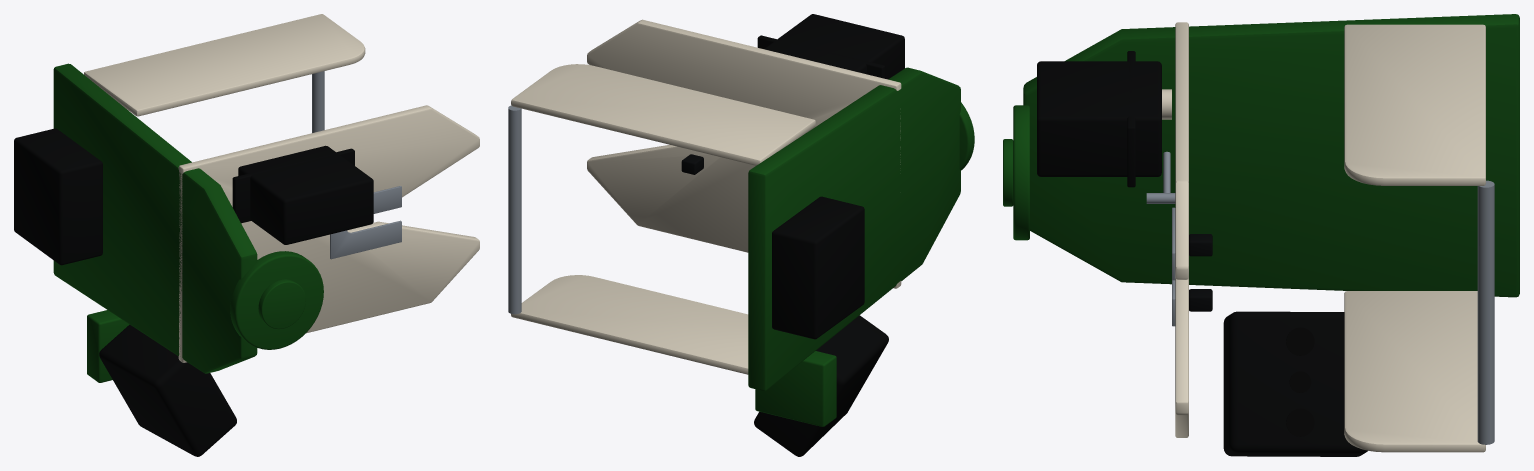
Rendered from cutter_body.obj.
3 views of the same model, side by side, from view 1: azimuth 30°, elevation 25°; view 2: azimuth 150°, elevation 25°; view 3: azimuth 270°, elevation 25° (orthographic). The views are drawn at different scales.
Visible parts, largest first — view 1: spine, top_plate, wall_right, servo2, arm_camera, servo1, flange, fixed_edge, spigot, camera_bracket, servo1_tabs, hinge_barrel; view 2: spine, top_plate, wall_right, wall_left, servo2, arm_camera, servo1, camera_bracket, hinge_barrel, flange, servo1_tabs; view 3: spine, wall_right, wall_left, arm_camera, servo1, top_plate, hinge_barrel, flange, servo1_tabs, spigot, lens_0, lens_2 (+2 smaller).
Boxes of the visible parts, x1,y1,x2,y2 form: spine: [53, 63, 257, 373]; top_plate: [178, 105, 479, 362]; wall_right: [84, 14, 365, 116]; servo2: [14, 128, 102, 265]; arm_camera: [99, 324, 236, 456]; servo1: [238, 145, 373, 244]; flange: [230, 251, 323, 349]; fixed_edge: [330, 186, 401, 259]; spigot: [258, 279, 305, 329]; camera_bracket: [87, 310, 129, 382]; servo1_tabs: [232, 148, 354, 223]; hinge_barrel: [312, 71, 324, 132]; spine: [748, 67, 960, 390]; top_plate: [587, 19, 901, 288]; wall_right: [511, 64, 815, 165]; wall_left: [511, 275, 748, 374]; servo2: [772, 196, 864, 339]; arm_camera: [754, 315, 888, 456]; servo1: [764, 14, 904, 79]; camera_bracket: [755, 351, 836, 426]; hinge_barrel: [508, 105, 521, 314]; flange: [959, 102, 974, 170]; servo1_tabs: [757, 35, 885, 78]; spine: [1023, 14, 1519, 297]; wall_right: [1344, 24, 1485, 185]; wall_left: [1344, 291, 1485, 452]; arm_camera: [1223, 311, 1367, 456]; servo1: [1037, 61, 1161, 176]; top_plate: [1175, 22, 1188, 437]; hinge_barrel: [1477, 180, 1494, 444]; flange: [1013, 105, 1029, 240]; servo1_tabs: [1127, 51, 1135, 187]; spigot: [1003, 139, 1013, 206]; lens_0: [1286, 408, 1314, 436]; lens_2: [1286, 327, 1314, 355].
Size of the model in its own units: 0.1539 by 0.1388 by 0.153.
